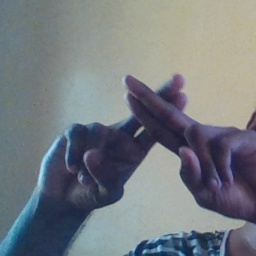F: (75, 69, 235, 176)
